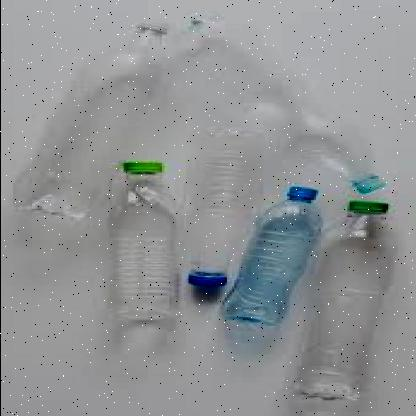Plastic Bottle: (11, 15, 173, 225), (299, 200, 392, 402), (223, 187, 322, 328), (188, 127, 261, 287), (109, 161, 179, 321)
